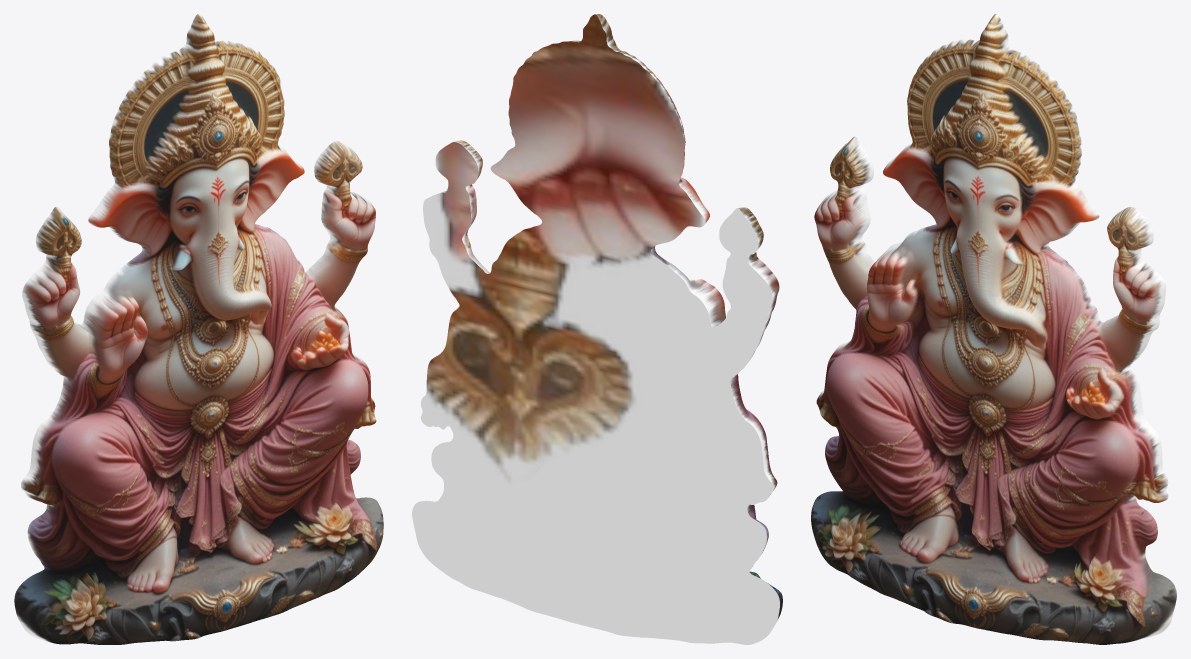
The model's file is ganesh_idol_model.glb.
The picture shows the model from 3 angles, left to right: view 1: azimuth 30°, elevation 25°; view 2: azimuth 150°, elevation 25°; view 3: azimuth 330°, elevation 25°; orthographic projection.
Parts seen in each view (by area): view 1: Plane; view 2: Plane; view 3: Plane.
Part boxes in pixels (x1=…): Plane: x1=14, y1=14, x2=383, y2=644; Plane: x1=412, y1=14, x2=782, y2=644; Plane: x1=811, y1=14, x2=1176, y2=644.
Bounding box in the file's own units: 1.11 × 1.78 × 0.1364.
Materials: 1 (1 with a texture image).
